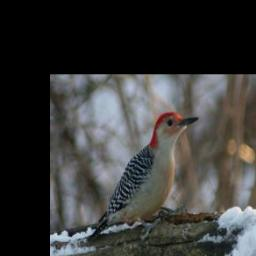Woodpecker: (88, 111, 201, 240)
